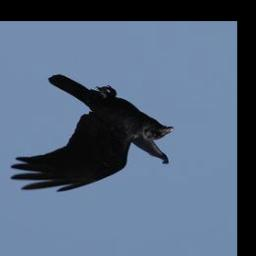Crow: (9, 74, 176, 195)
